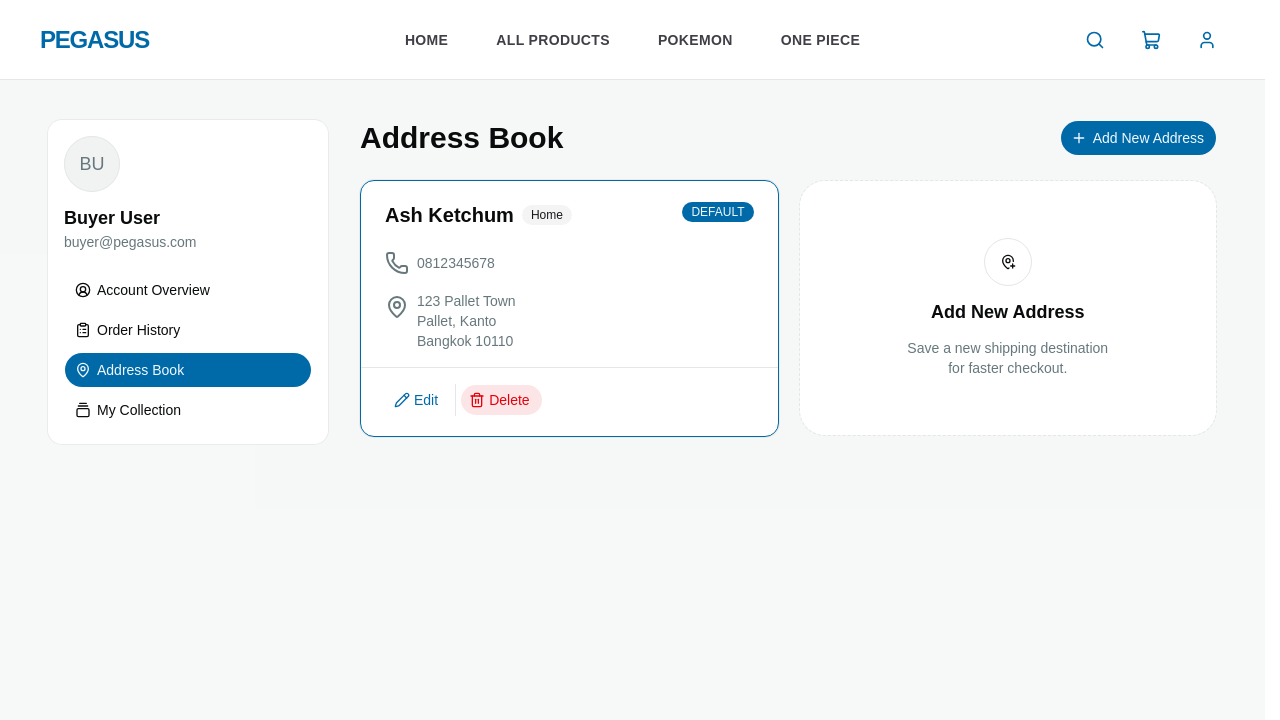
Test: Core Account Addresses Flow › edits an existing address and saves changes
Expected: the text "Ash Ketchum" is shown, [385,204,514,226]
Click the button "Edit" at (418, 400), box [385,384,451,416]
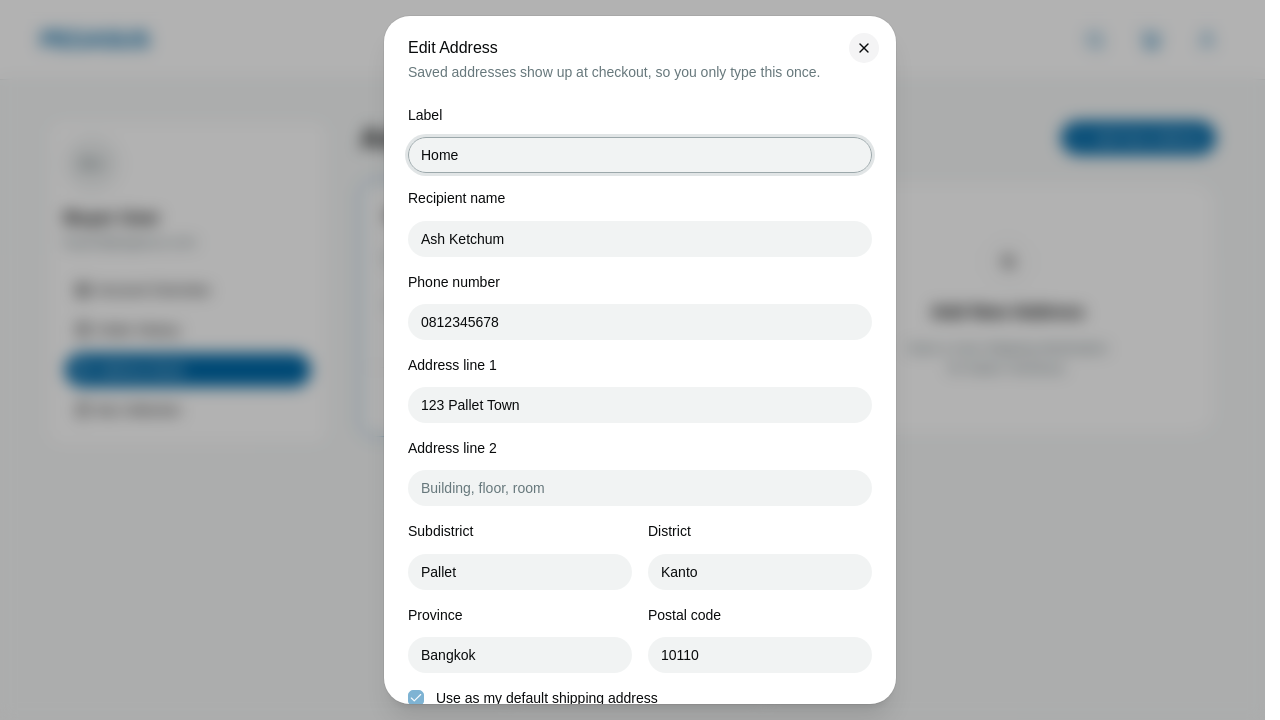
Replace the text in the field labelled "Label" with "Sweet Home" at (640, 155), box [408,137,872,173]
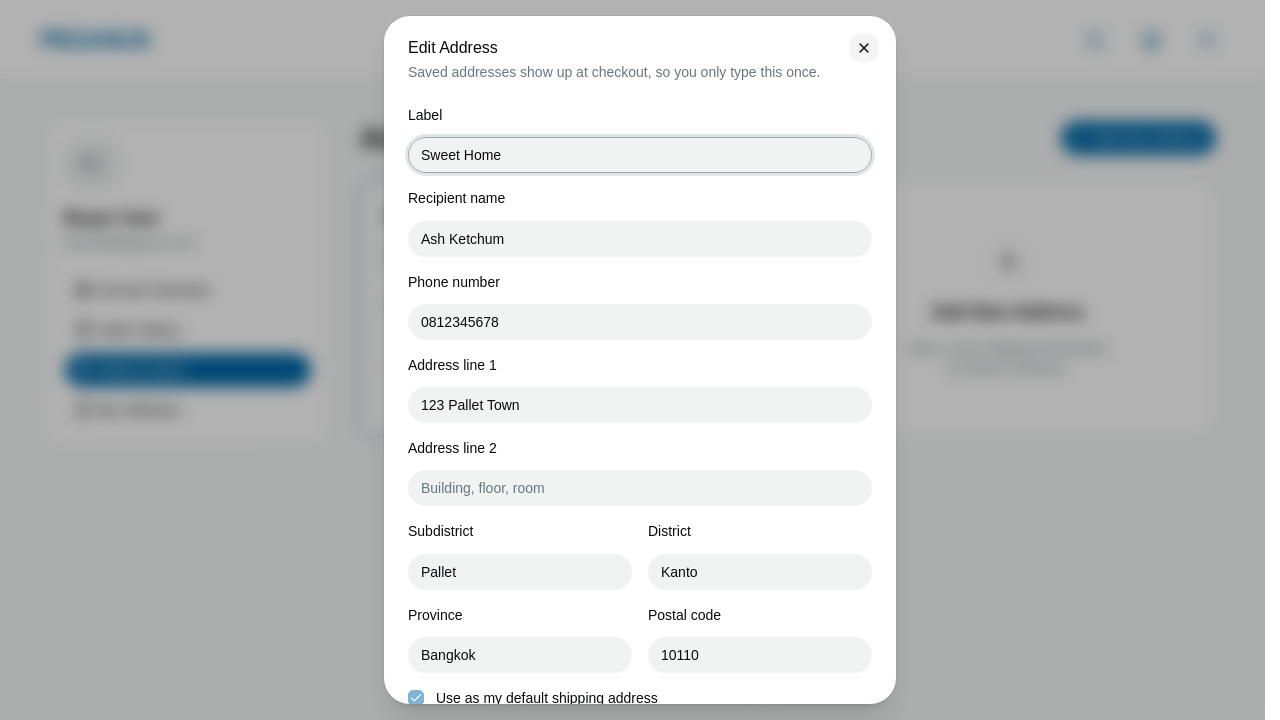
Replace the text in the field with id "line1" with "999 Pallet Town Central" at (640, 405), box [408,387,872,423]
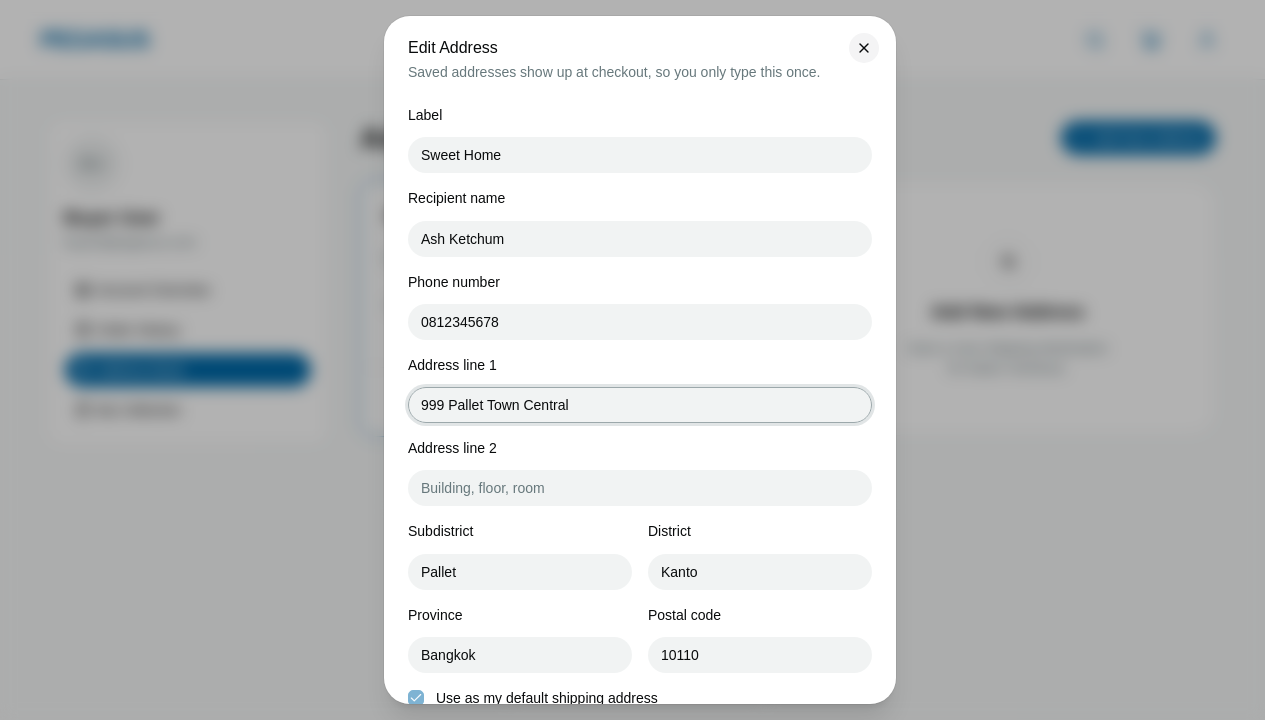
Scroll
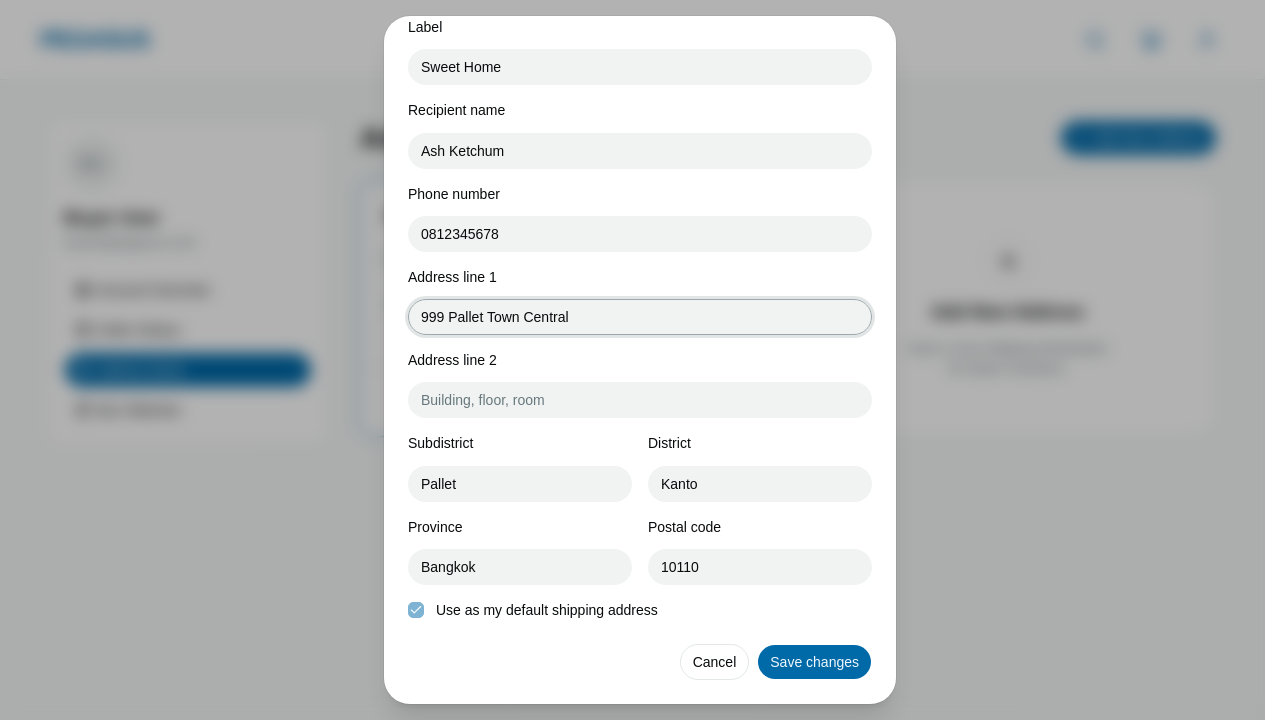
Click the button "Save changes" at (815, 662), box [757,644,872,680]
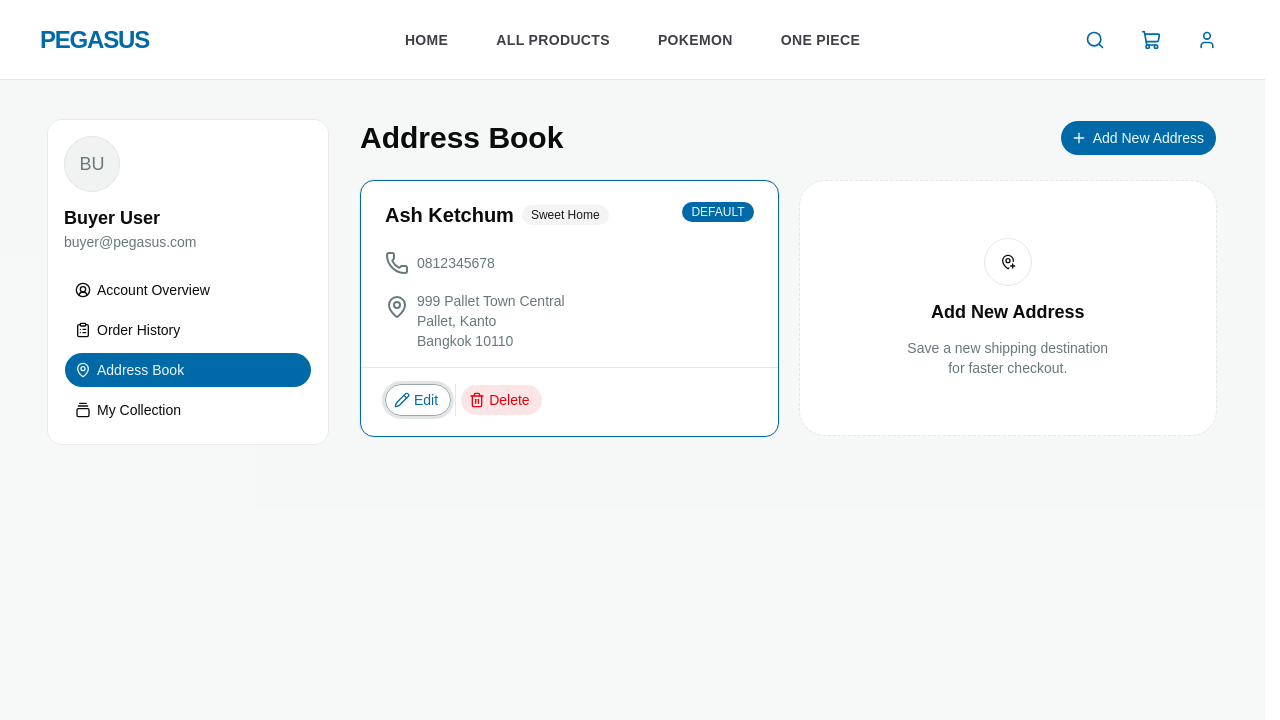
Now the text "Sweet Home" is shown, box [522,205,609,225]
Now the text "999 Pallet Town Central" is shown, box [417,291,565,311]
